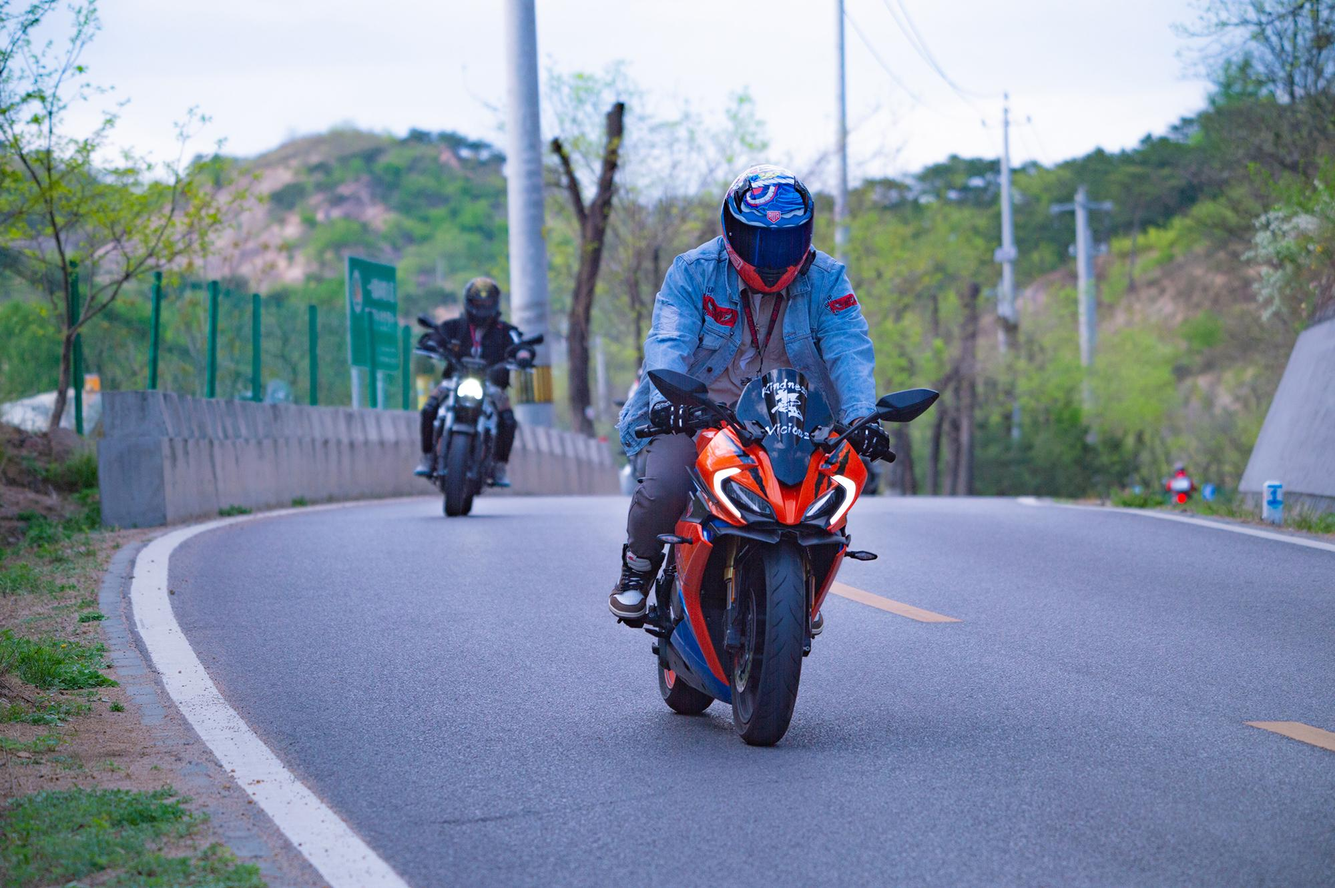helmet: (720, 162, 817, 296), (461, 276, 503, 329)
